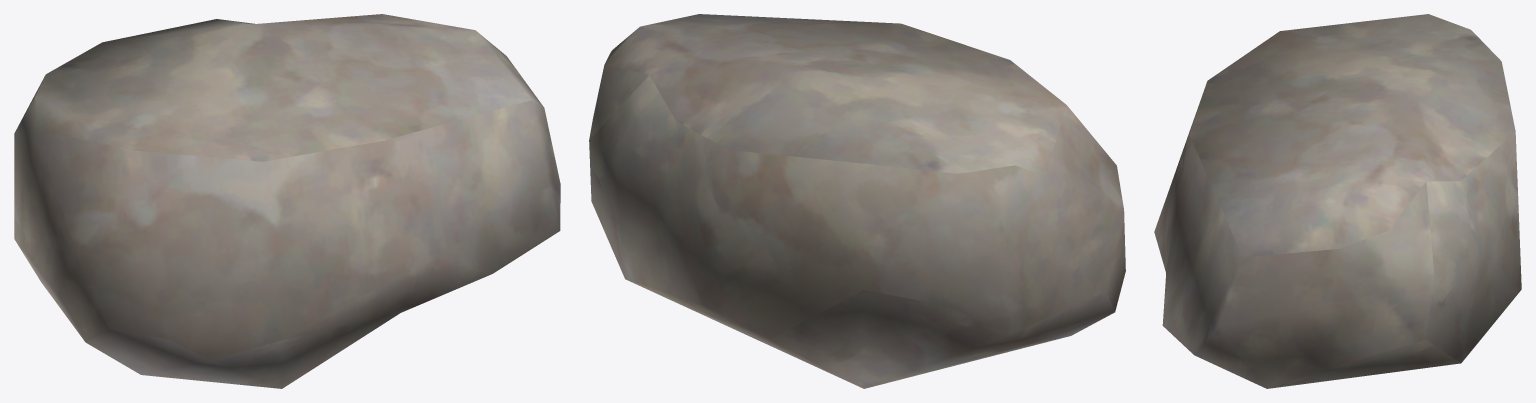
File: Homeworld_Exterior_Common_Stone_Stone_14_Vo.fbx
The picture shows the model from 3 angles, left to right: view 1: azimuth 30°, elevation 25°; view 2: azimuth 150°, elevation 25°; view 3: azimuth 270°, elevation 25°; orthographic projection. The views are drawn at different scales.
Parts seen in each view (by area): view 1: Area_Ly_Rock_HZ_Ground_S_03_Vo; view 2: Area_Ly_Rock_HZ_Ground_S_03_Vo; view 3: Area_Ly_Rock_HZ_Ground_S_03_Vo.
Part boxes in pixels (x1,y1,x2,y2): Area_Ly_Rock_HZ_Ground_S_03_Vo: (14, 14, 560, 388); Area_Ly_Rock_HZ_Ground_S_03_Vo: (589, 14, 1125, 388); Area_Ly_Rock_HZ_Ground_S_03_Vo: (1154, 14, 1521, 388).
Size of the model in its own units: 2.71 by 1.65 by 1.9.
